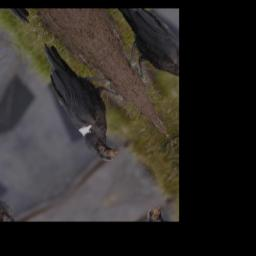Crow: (18, 23, 153, 170)
